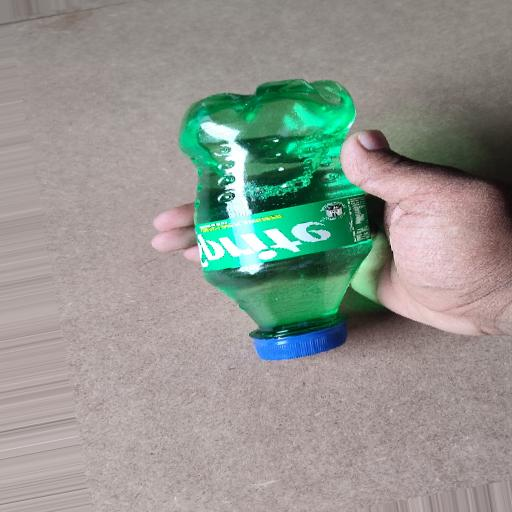Sprite: (117, 77, 390, 395)
